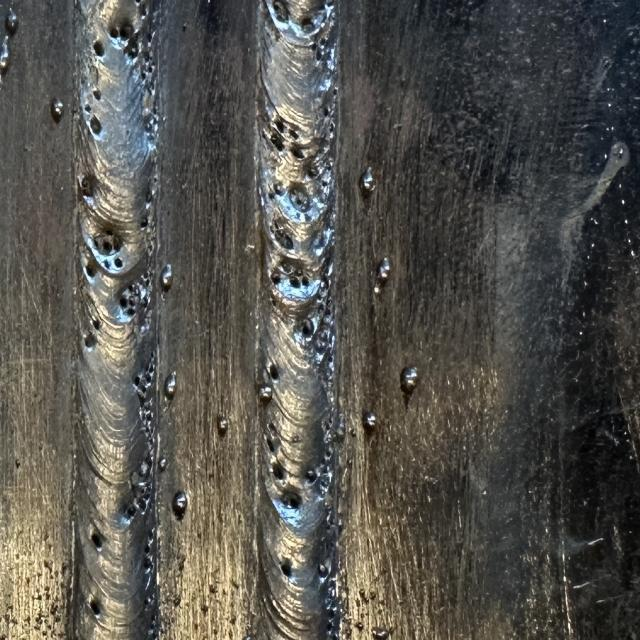Porosity: (134, 352, 156, 458), (261, 113, 304, 158), (142, 97, 159, 152), (141, 588, 159, 638), (315, 273, 334, 315), (144, 527, 156, 592), (94, 230, 122, 256), (109, 17, 135, 41), (138, 45, 155, 80), (290, 187, 310, 212), (79, 173, 98, 198), (324, 100, 336, 138), (100, 255, 124, 272), (272, 0, 289, 22), (301, 317, 318, 338), (120, 293, 136, 315), (300, 18, 319, 36), (84, 258, 99, 280), (310, 38, 325, 60), (91, 527, 104, 552), (281, 492, 301, 508), (264, 423, 275, 452), (278, 258, 295, 275), (130, 498, 146, 516), (325, 598, 339, 618), (124, 40, 139, 58), (304, 468, 319, 486), (274, 218, 286, 240), (266, 360, 279, 380), (139, 270, 152, 289), (272, 462, 285, 480), (90, 597, 102, 615), (84, 333, 98, 348), (281, 558, 292, 577), (90, 115, 101, 134), (124, 282, 140, 295), (282, 233, 294, 250), (326, 620, 336, 640), (320, 453, 330, 473), (306, 468, 318, 483), (308, 165, 319, 181), (94, 40, 104, 57), (318, 563, 329, 578), (140, 210, 149, 228), (271, 270, 281, 284), (300, 273, 310, 287), (329, 585, 338, 600), (272, 183, 284, 194), (145, 28, 152, 46), (139, 482, 150, 493), (145, 187, 152, 203), (290, 277, 300, 288), (92, 88, 101, 100), (320, 485, 328, 497), (320, 177, 328, 189), (93, 318, 100, 330), (324, 448, 331, 459), (84, 103, 91, 112), (154, 175, 158, 182)
Spatters: (400, 367, 418, 394), (359, 167, 375, 197), (172, 492, 188, 520), (0, 37, 10, 74), (376, 257, 390, 283), (5, 8, 18, 35), (164, 372, 176, 400), (362, 412, 378, 433), (50, 98, 64, 122), (160, 265, 172, 292), (320, 467, 334, 488), (216, 415, 229, 437), (371, 627, 390, 640), (259, 385, 272, 403), (139, 460, 150, 477), (359, 588, 369, 603), (159, 457, 168, 472), (162, 280, 171, 292), (201, 602, 209, 615), (355, 622, 364, 632), (209, 585, 218, 593), (369, 592, 376, 600), (182, 22, 188, 31), (346, 458, 352, 467), (350, 428, 356, 437), (181, 22, 186, 32), (625, 220, 629, 224)
